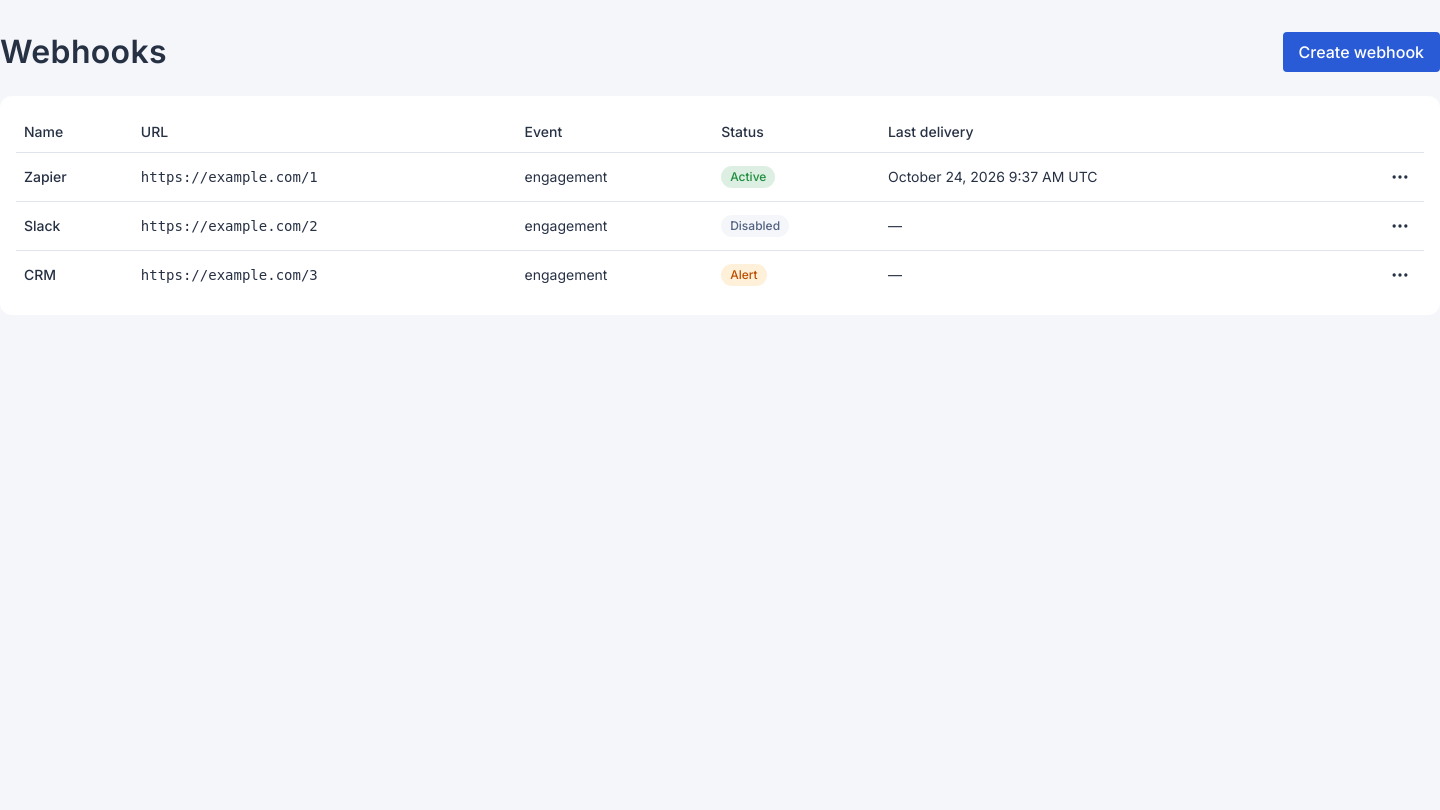
Test: WebhooksPage › opens the edit dialog prefilled
Click the button named "More actions for Slack" at (1400, 226), box 1384,210 -> 1416,242
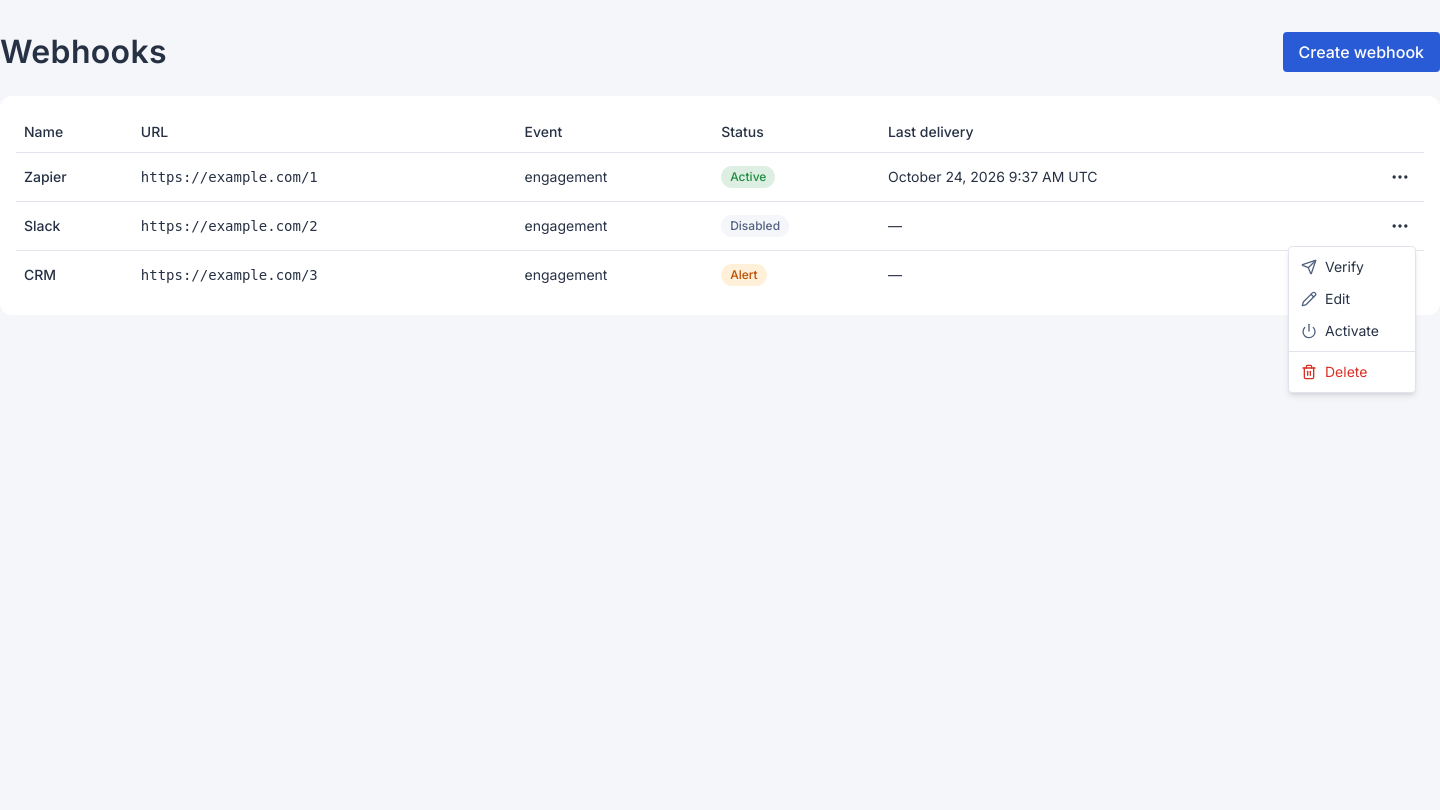
Click the menu item "Edit" at (1326, 298), box 1301,290 -> 1350,307
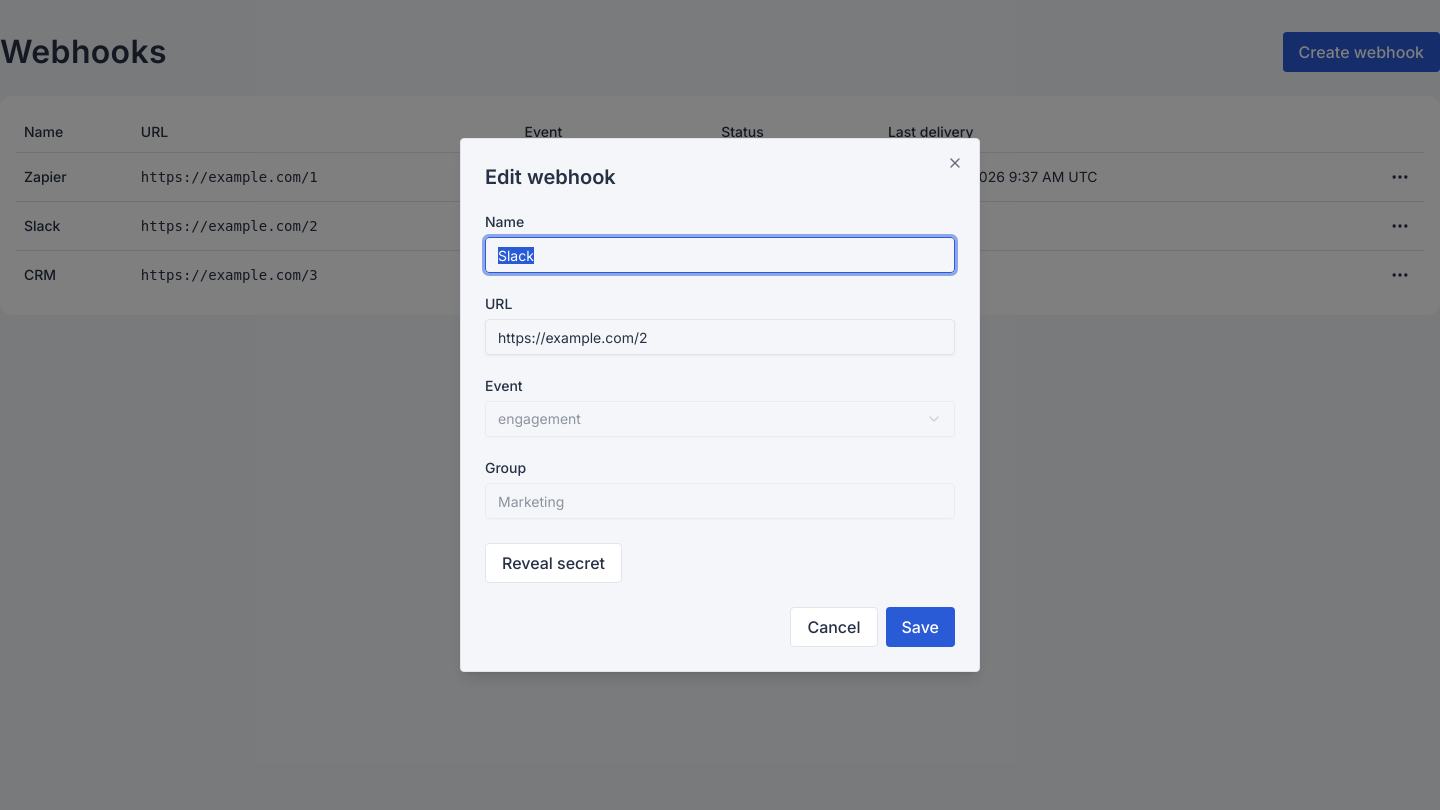
Expected: the field labelled "Name" holds "Slack", 485,237 -> 955,273
